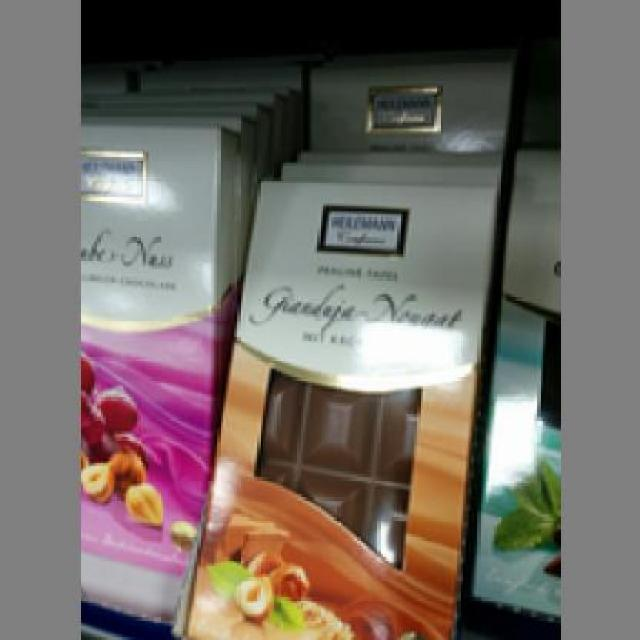Chocolate: (182, 180, 488, 637), (77, 120, 226, 629)
